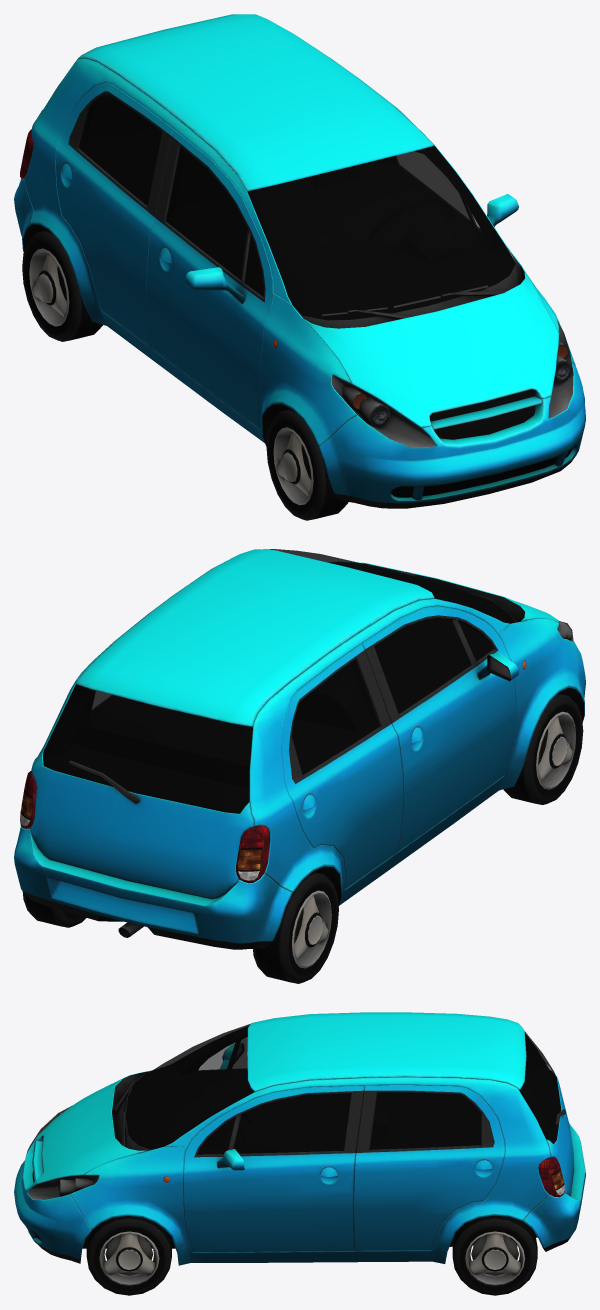
The model's file is compact.glb.
The picture shows the model from 3 angles, top to bottom: view 1: azimuth 30°, elevation 25°; view 2: azimuth 150°, elevation 25°; view 3: azimuth 270°, elevation 25°; orthographic projection. The views are drawn at different scales.
Visible parts, largest first — view 1: body, wheel_fr, wheel_rr; view 2: body, wheel_rr, wheel_fr, wheel_rl; view 3: body, wheel_rl, wheel_fl.
Part boxes in pixels (left/top/right/bottom): body: left=14, top=14, right=585, bottom=508; wheel_fr: left=266, top=409, right=348, bottom=520; wheel_rr: left=22, top=229, right=102, bottom=341; body: left=14, top=549, right=585, bottom=949; wheel_rr: left=253, top=872, right=338, bottom=983; wheel_fr: left=503, top=693, right=583, bottom=804; wheel_rl: left=22, top=891, right=86, bottom=927; body: left=14, top=1012, right=585, bottom=1265; wheel_rl: left=452, top=1215, right=537, bottom=1295; wheel_fl: left=86, top=1216, right=171, bottom=1295.
Size of the model in its own units: 1.97 by 1.62 by 4.
4 materials, 3 textured.
